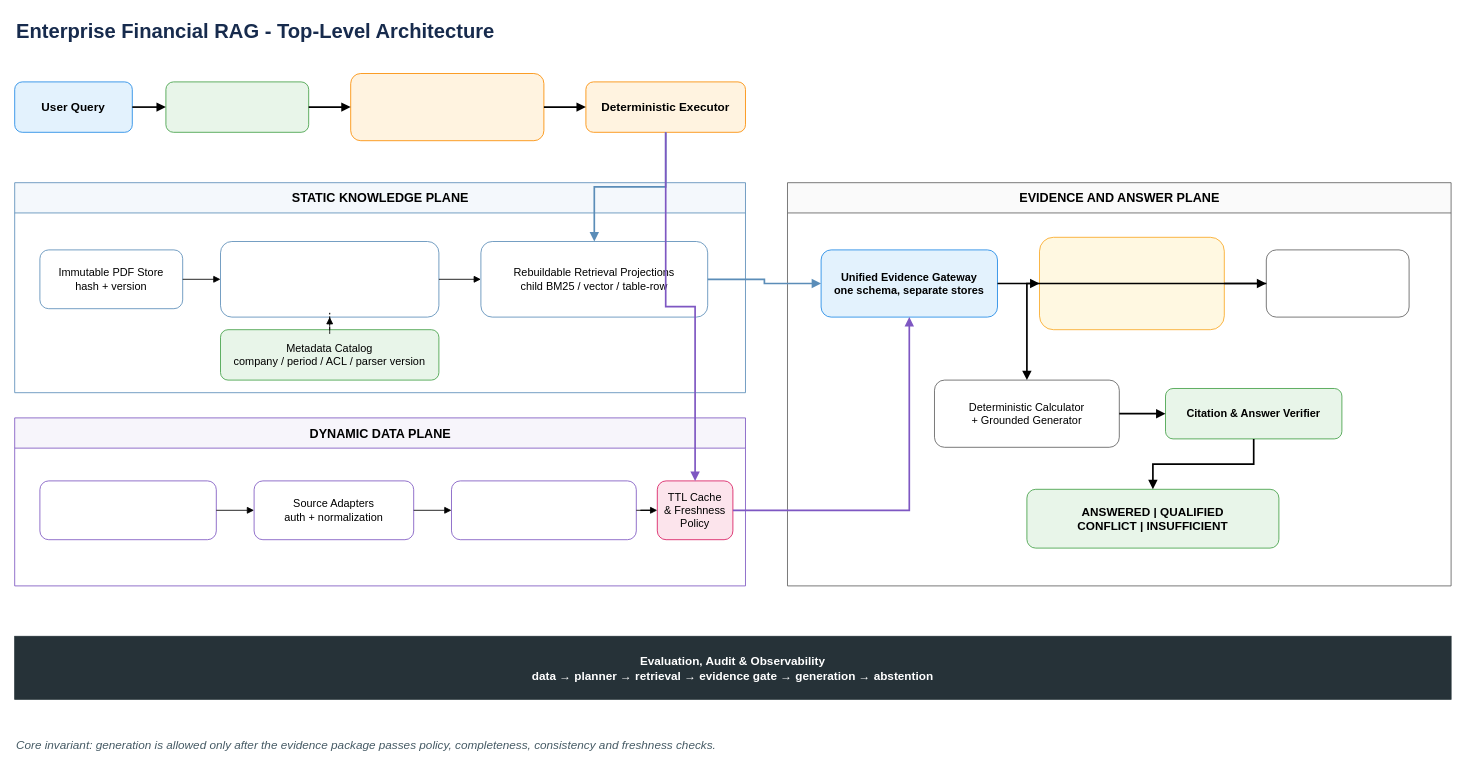
Some shapes in this 1466 by 776 pixel diagram are drawn without their labels. The centre of each missing label's shape, as x and y in pixels:
Authorized Live Sources ERP / market / operational APIs: the point at 127,510
Bounded Retrieval Planner intent / scope / slots / tools: the point at 447,107
Canonical Document Graph doc → page → section → table/paragraph → chunk: the point at 329,279
Evidence Gate slot completeness / conflict unit / period / freshness / ACL: the point at 1131,283
Identity, Tenant & Access Policy: the point at 237,106
Operational / Time-series Store observed_at + valid_at: the point at 543,510
Structure-aware Context Packing: the point at 1337,283
